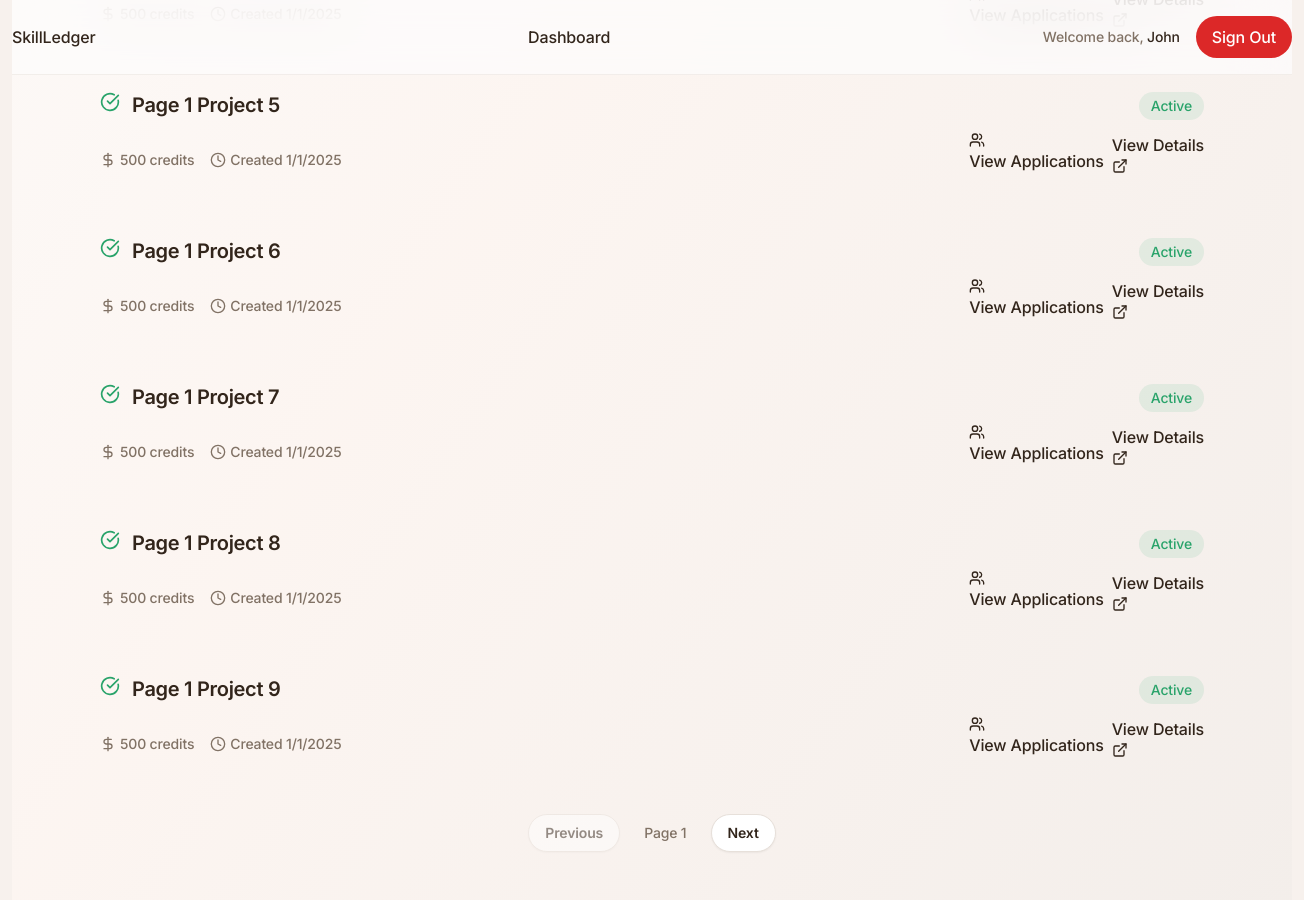
Scenario: MyProjectsPage - Pagination › should fetch next page when Next button clicked
The width and height of the screenshot is (1304, 900).
(page scrolled)
Click the button "Next" at (743,832), box [710,814,776,852]
(page scrolled)
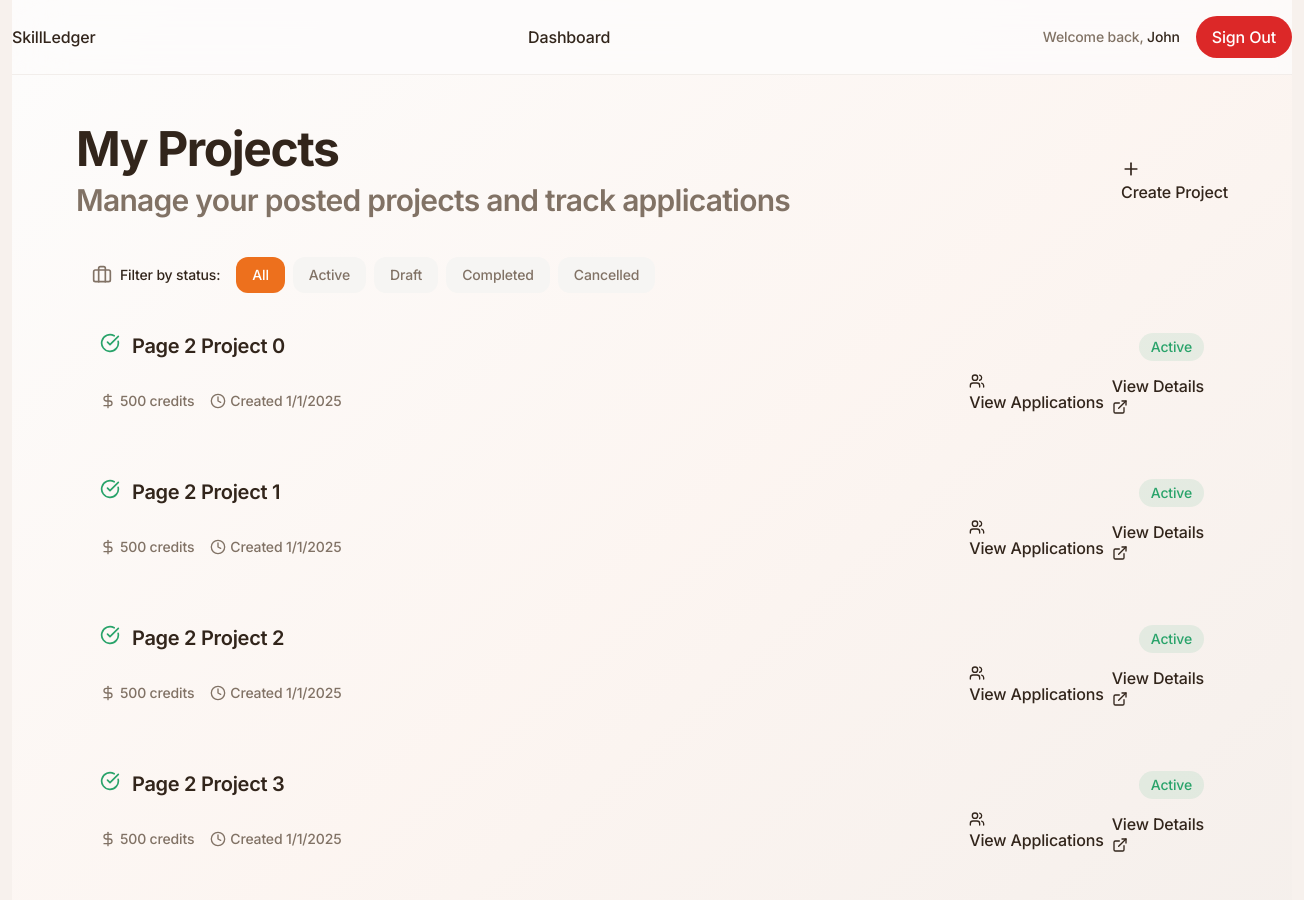
Result: the heading "Page 2 Project 0" is shown at [132,332,285,358]
